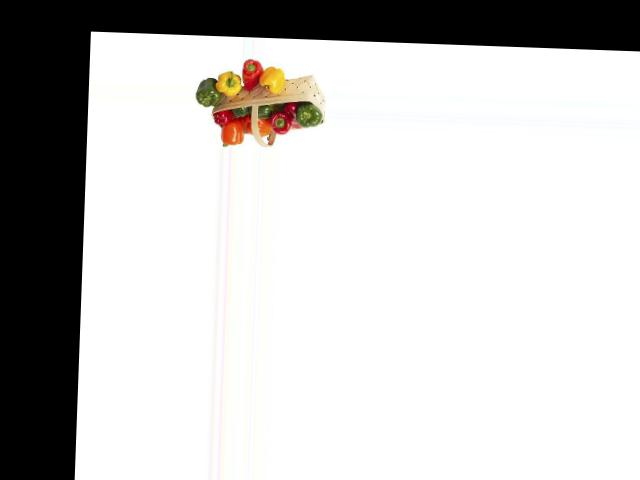bell_pepper: (292, 103, 322, 128)
